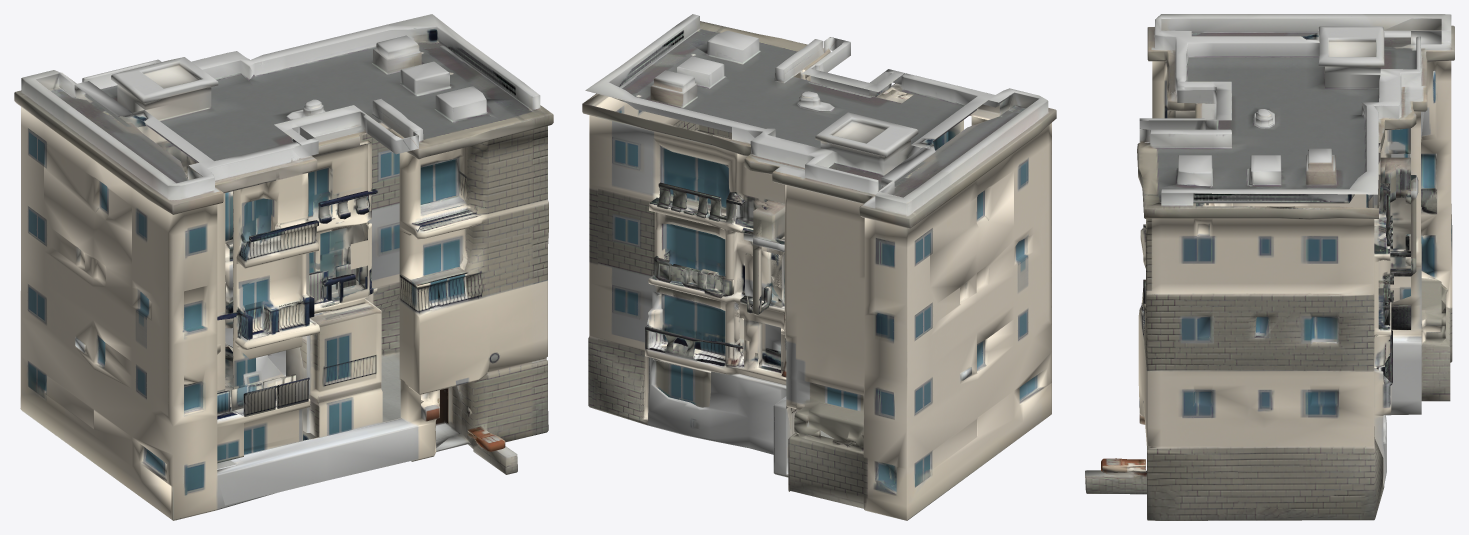
Rendered from bld_556855839.glb.
The picture shows the model from 3 angles, left to right: view 1: azimuth 30°, elevation 25°; view 2: azimuth 150°, elevation 25°; view 3: azimuth 270°, elevation 25°; orthographic projection. The views are drawn at different scales.
Bounding box in the file's own units: 1.91 × 1.66 × 1.62.
1 material, 1 textured.
